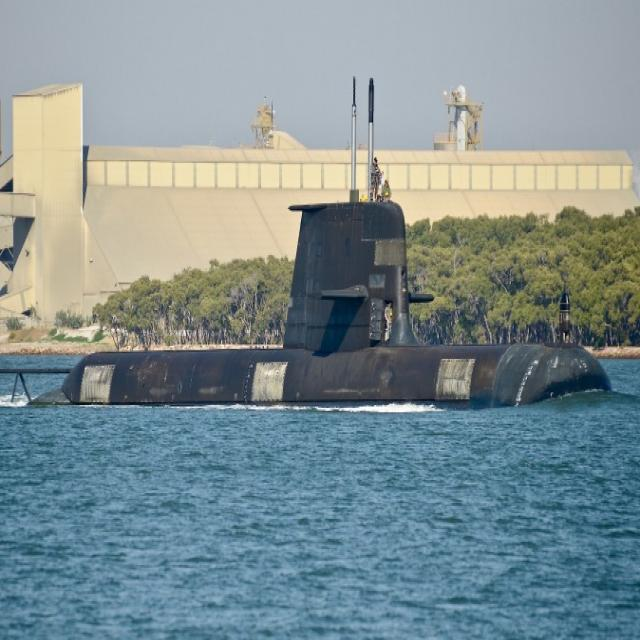submarine: (1, 71, 614, 410)
